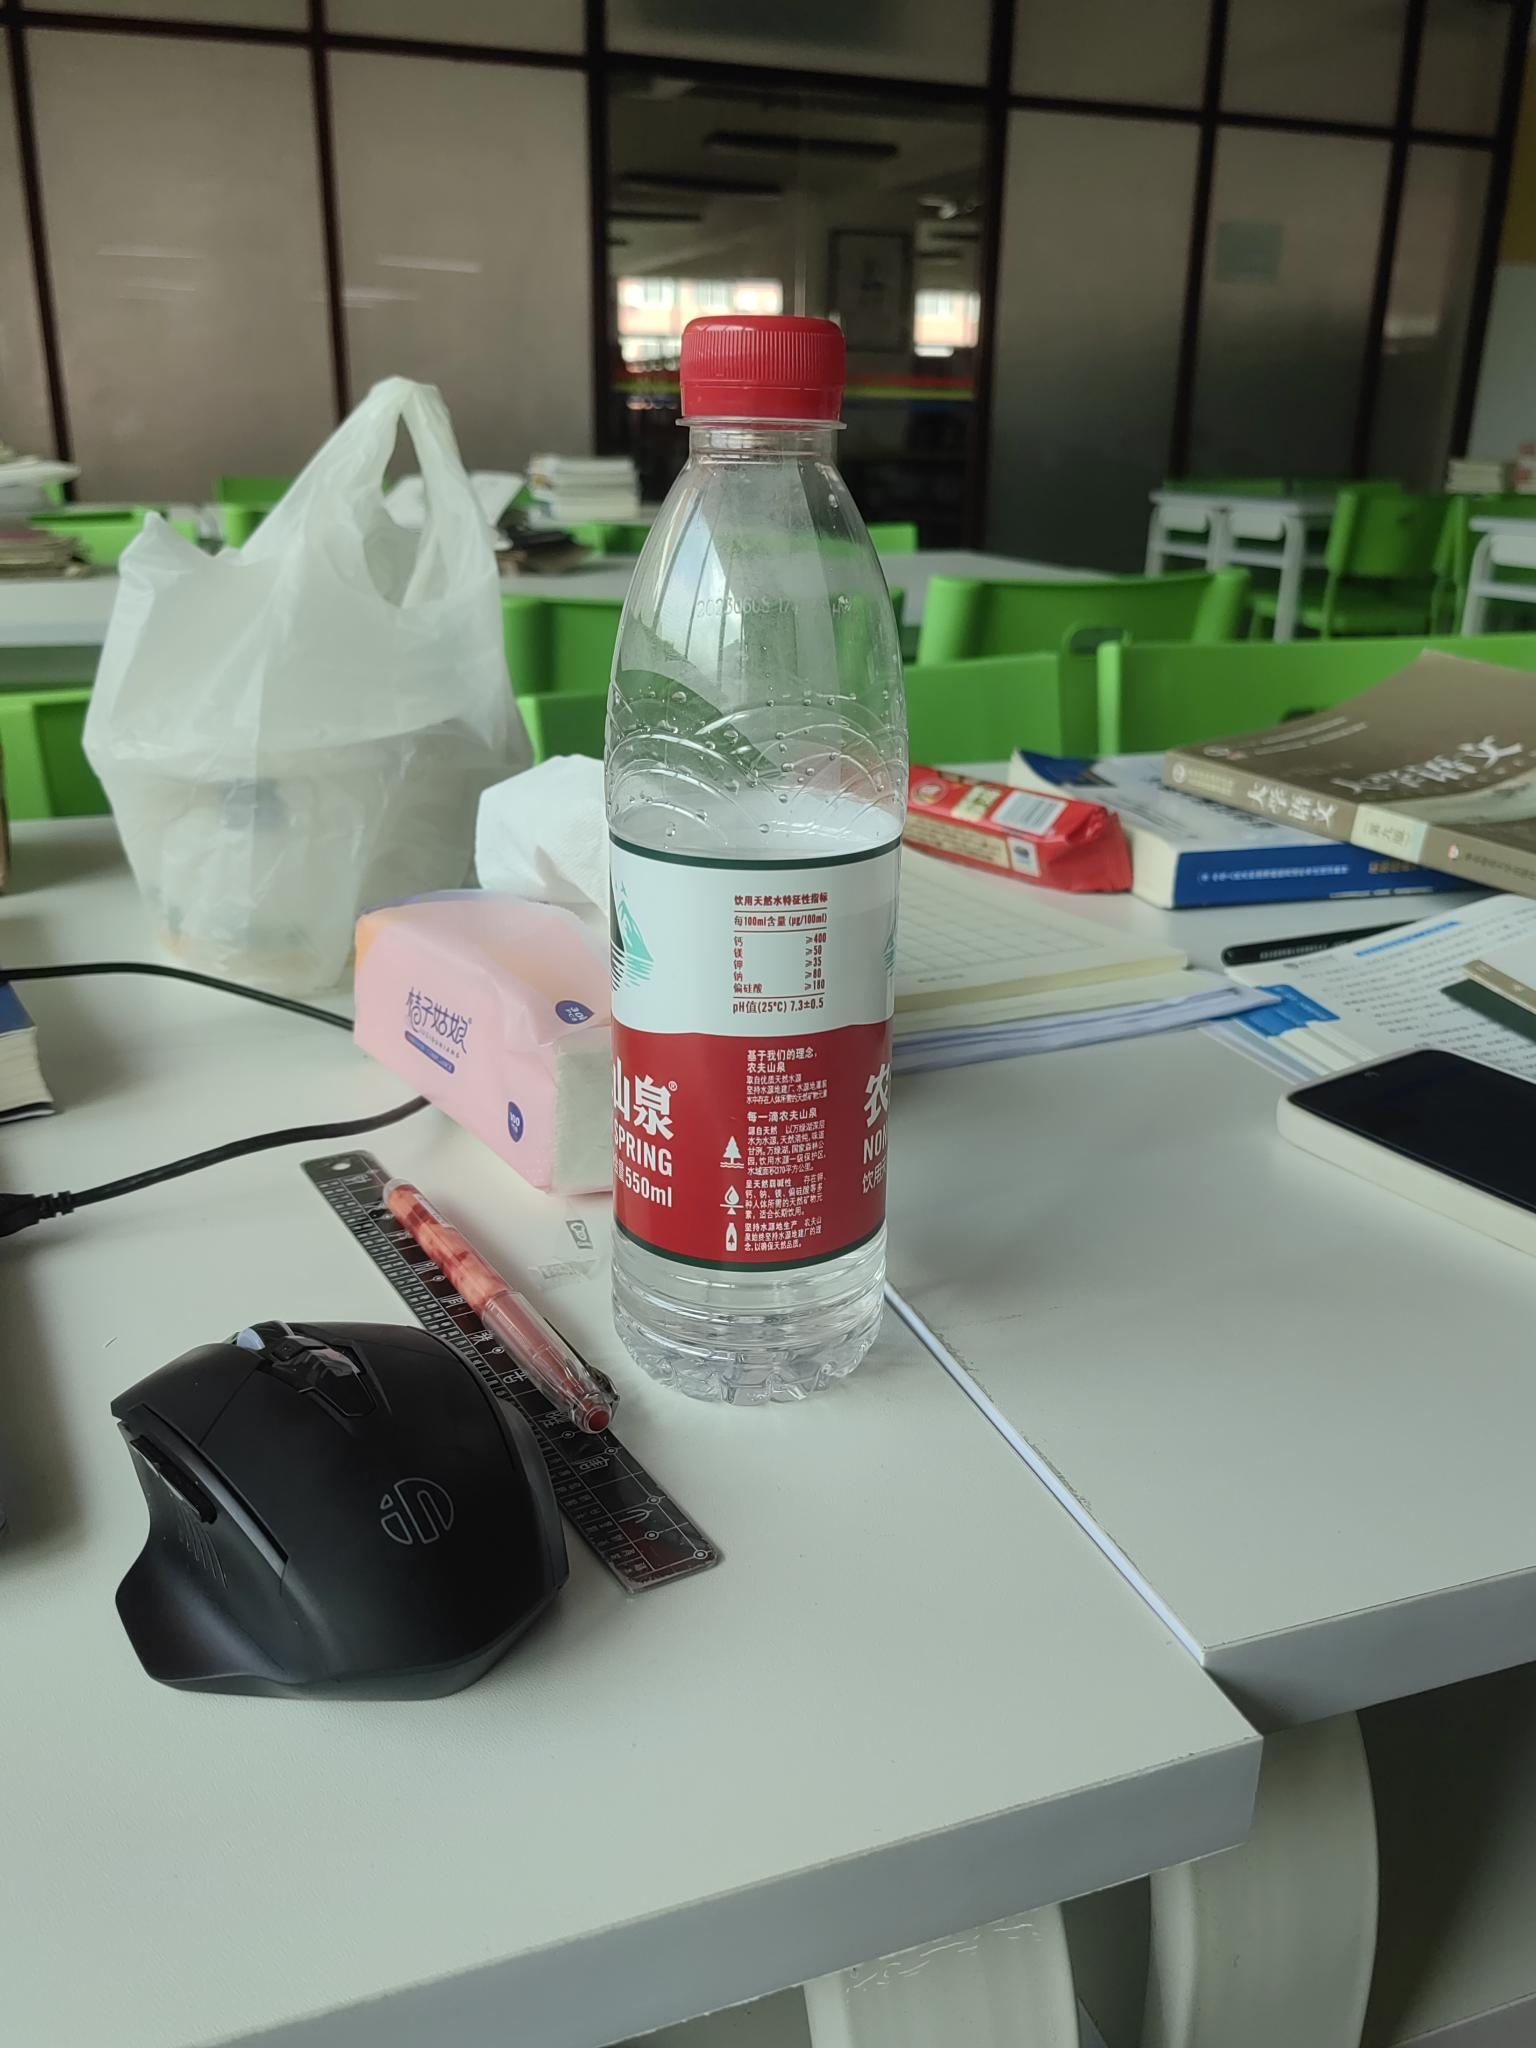plastic: (605, 316, 907, 1405)
